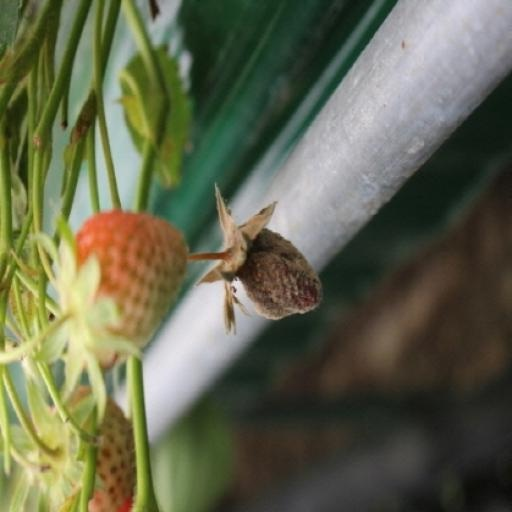Gray Mold: (187, 181, 325, 336)
